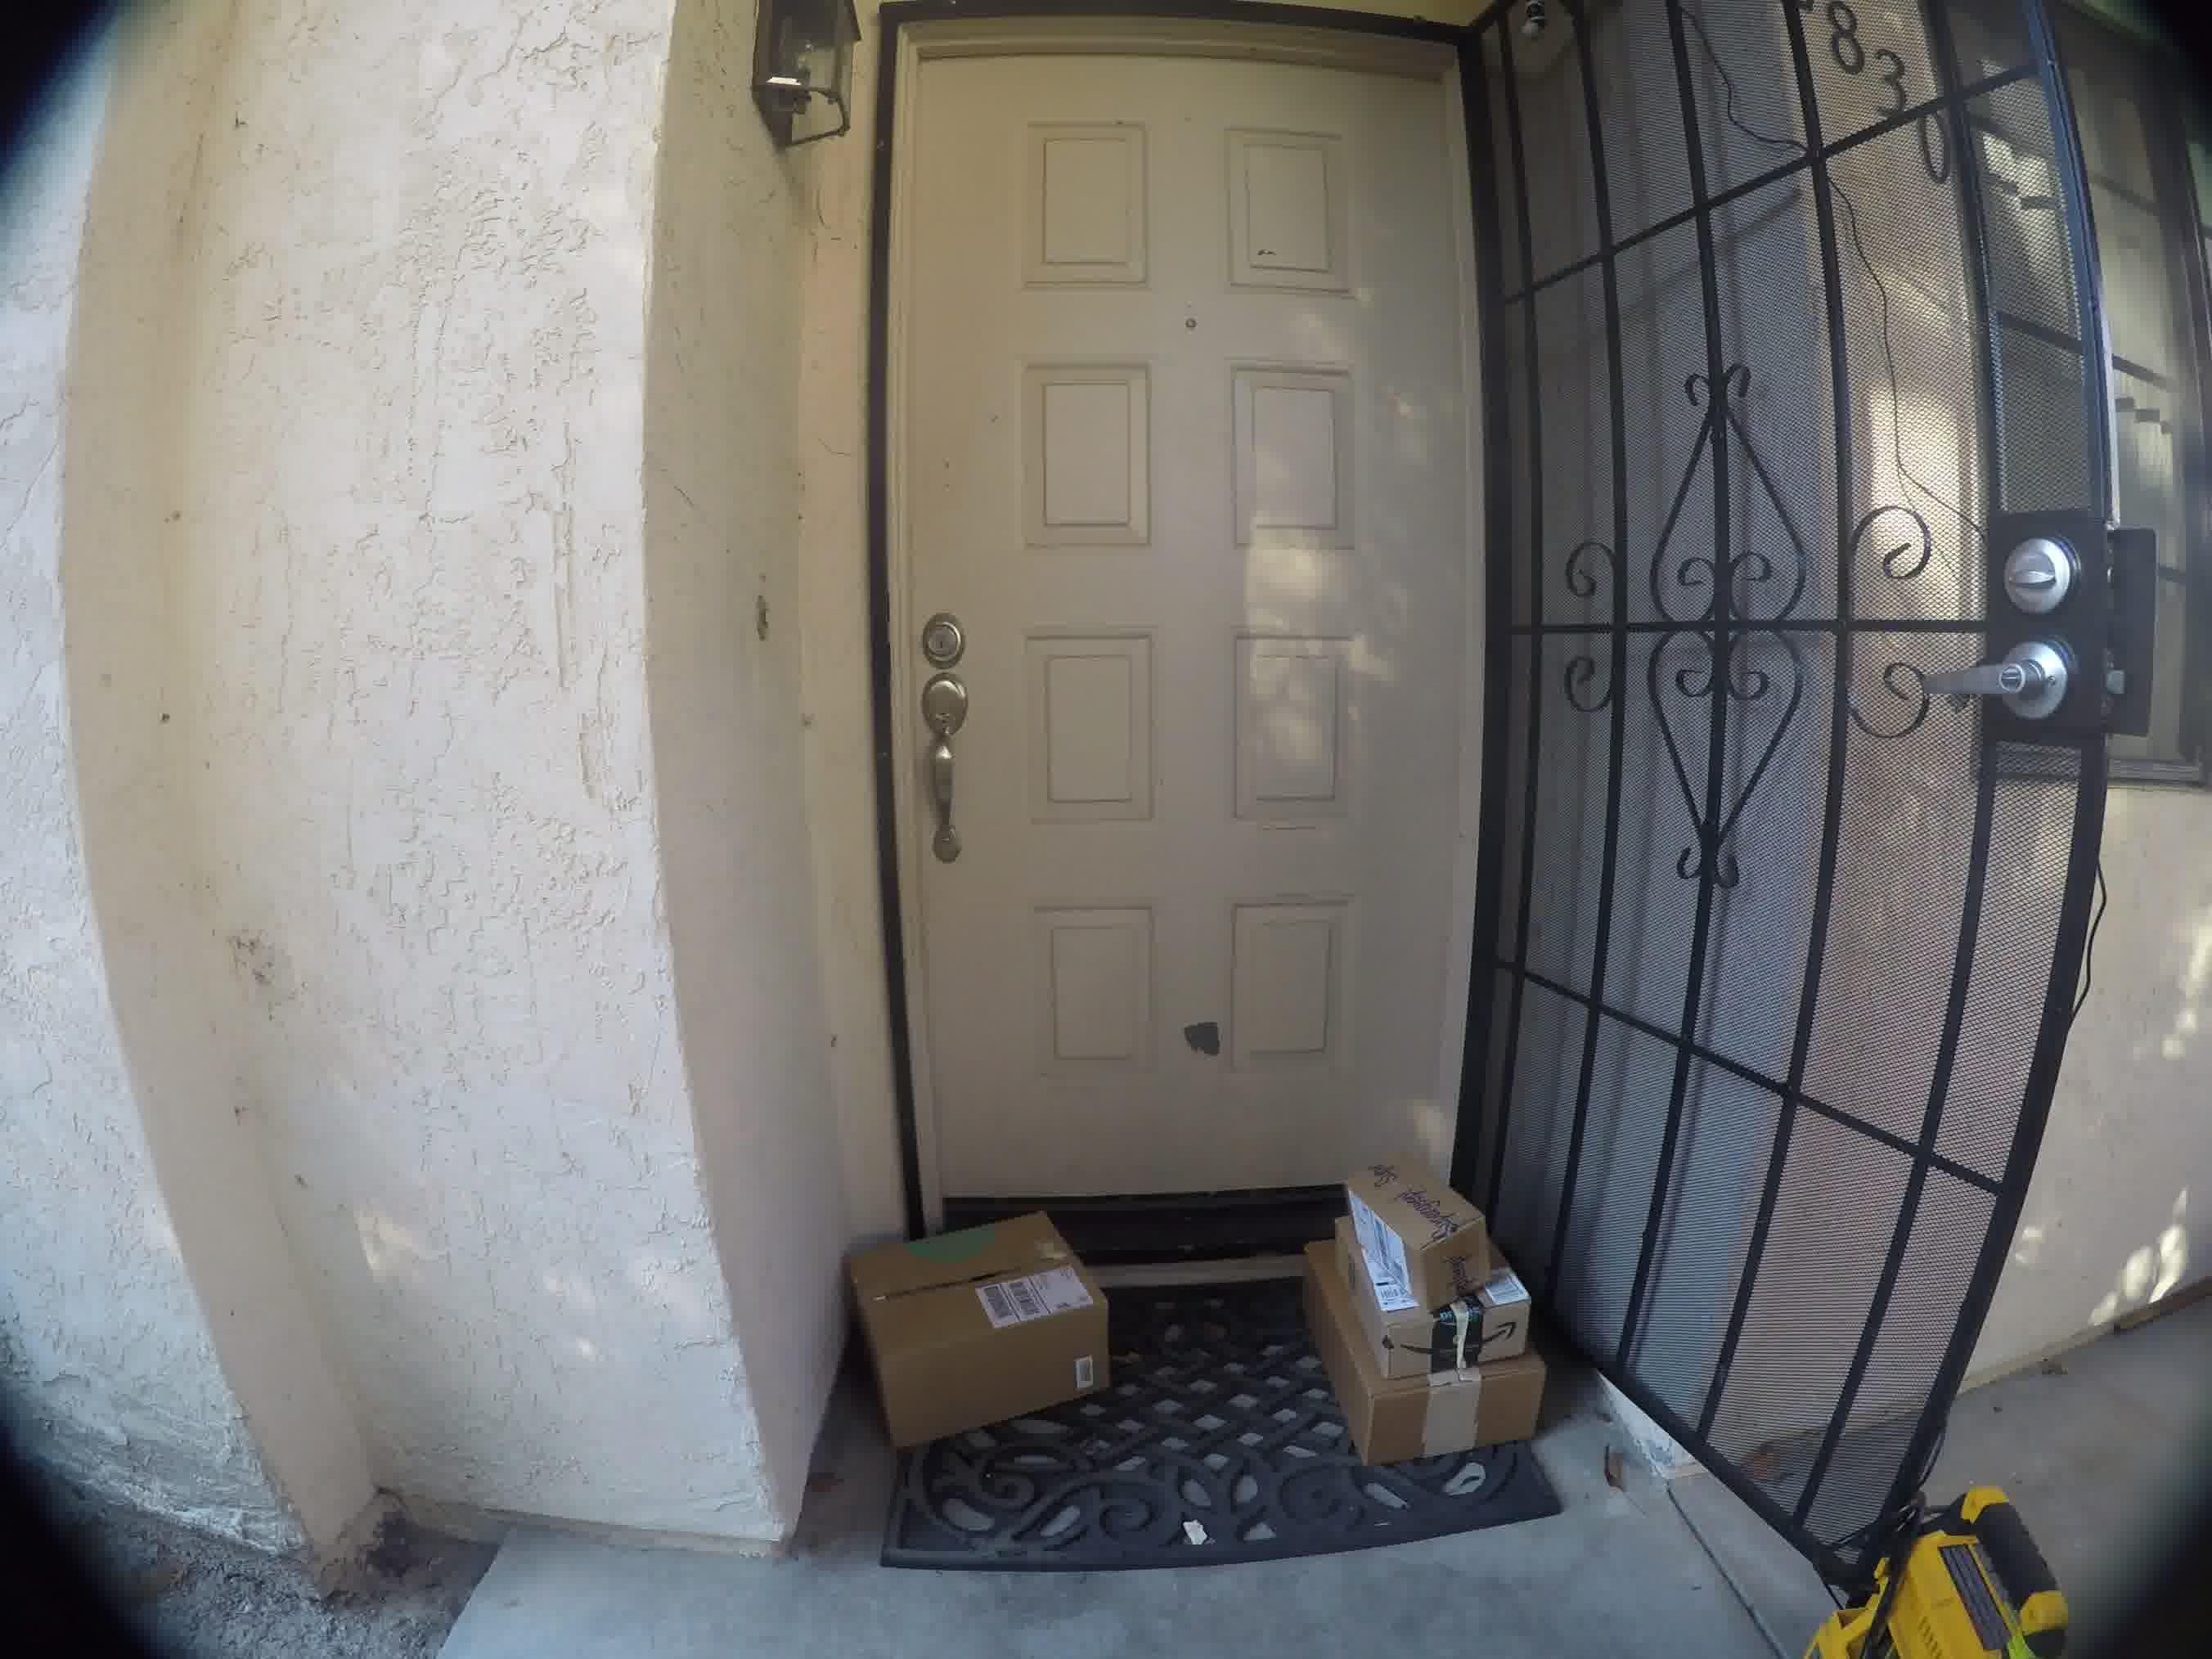box: (836, 1230, 1151, 1429), (1350, 1147, 1545, 1366), (1336, 1366, 1561, 1471)
